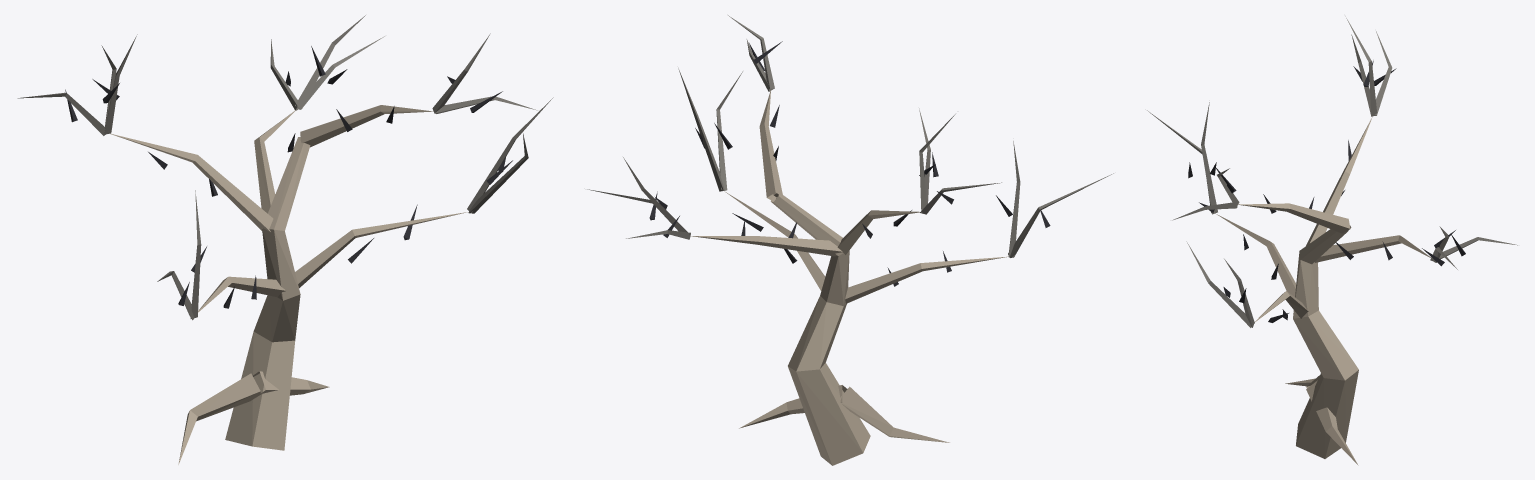
Rendered from Circle7Piece_Tree10.obj.
3 views of the same model, side by side, from view 1: azimuth 30°, elevation 25°; view 2: azimuth 150°, elevation 25°; view 3: azimuth 270°, elevation 25° (orthographic). The views are drawn at different scales.
Visible parts, largest first — view 1: Circle7Piece_Tree10; view 2: Circle7Piece_Tree10; view 3: Circle7Piece_Tree10.
Part boxes in pixels (x1,y1,x2,y2): Circle7Piece_Tree10: (17,15,553,464); Circle7Piece_Tree10: (587,15,1113,465); Circle7Piece_Tree10: (1147,16,1517,465).
Size of the model in its own units: 5.58 by 5.11 by 4.64.
Materials: 1 (1 with a texture image).
